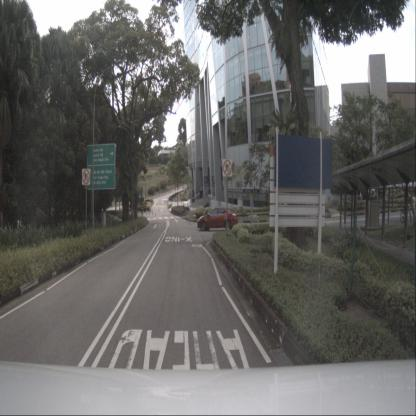vehicle-bicycle: (400, 204, 412, 223)
vehicle-car: (198, 207, 238, 232)
